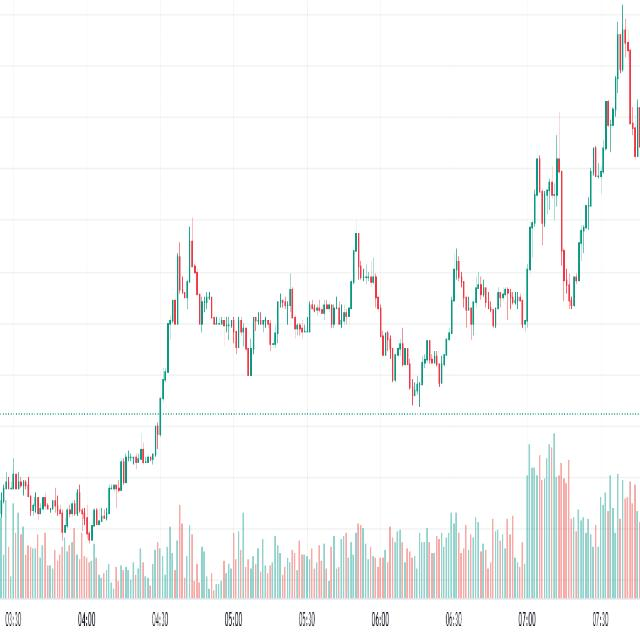Double-Top: (526, 133, 570, 282)
Rounding-Bottom: (372, 284, 457, 411)
rectangle: (209, 290, 250, 350), (305, 284, 355, 326)
